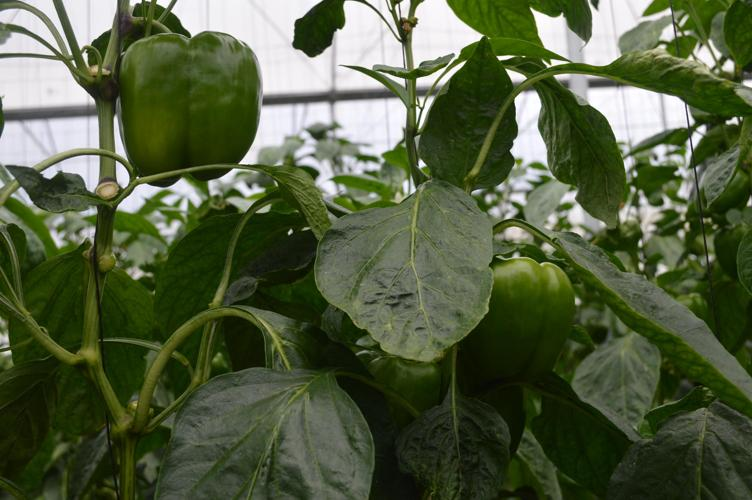BellPepper: (115, 33, 267, 185), (466, 258, 580, 385), (358, 344, 435, 426)
